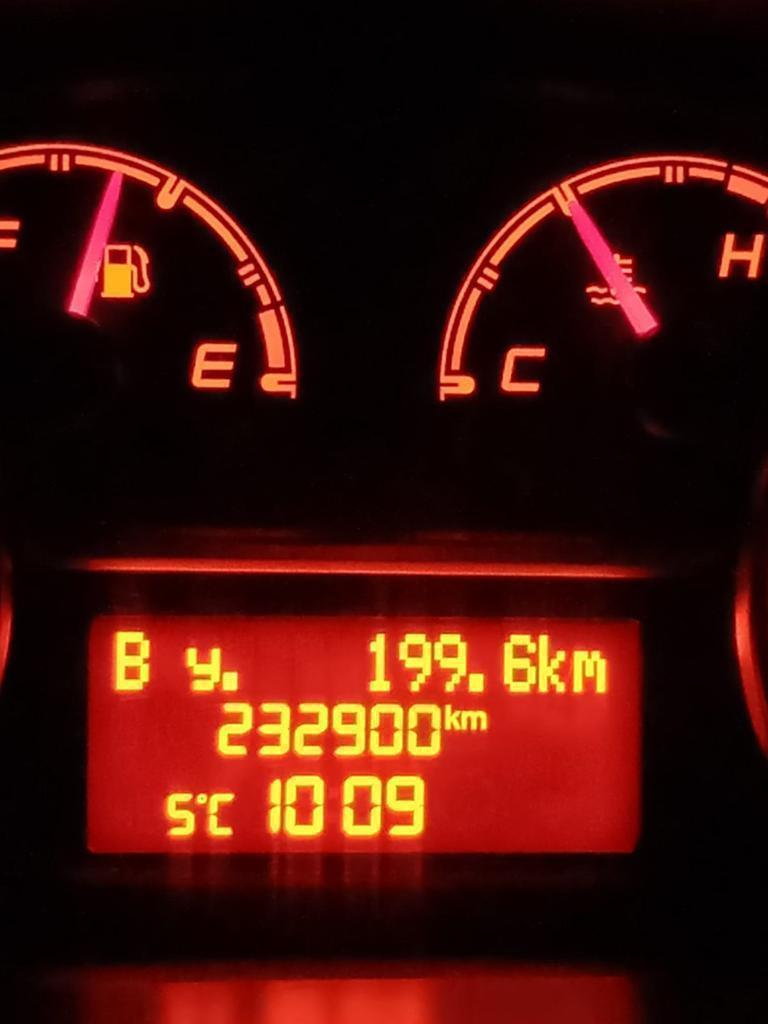,: (467, 667, 486, 695), (222, 668, 240, 692)
0: (338, 772, 383, 838), (283, 772, 326, 839), (367, 700, 405, 757), (407, 701, 442, 758)
1: (364, 629, 393, 692), (263, 776, 283, 835)
2: (211, 700, 254, 759), (292, 697, 329, 758)
3: (256, 699, 291, 757)
5: (161, 790, 197, 838)
6: (499, 631, 537, 695)
9: (384, 772, 426, 838), (396, 630, 433, 694), (432, 629, 468, 693), (329, 700, 368, 758)
X: (110, 626, 154, 696), (182, 642, 222, 695), (536, 630, 568, 695), (569, 646, 607, 695), (207, 791, 236, 838), (462, 706, 487, 731), (441, 701, 461, 731)
odometer: (76, 607, 651, 865)
